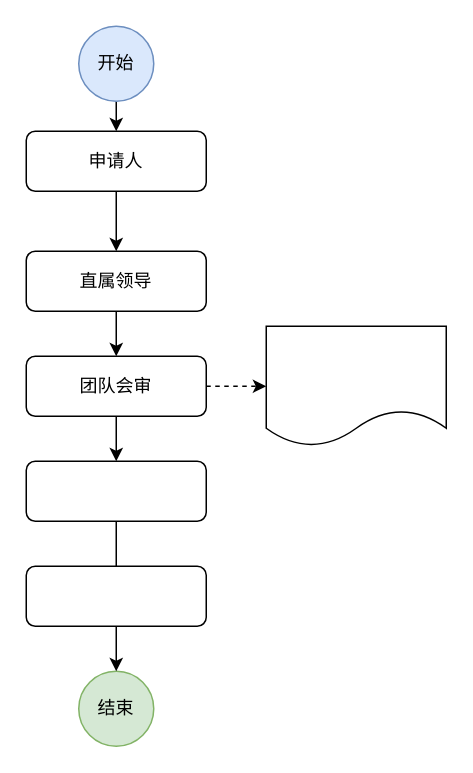
This 473x773 diagram has some shape labels left out. Here are the shapes that lost their labels. From the top down, the centre of each, then its label:
point (355, 385): HR部门、蓝光财务、OA团队、U9C团队
point (115, 490): 董事长
point (115, 595): 执行调整
